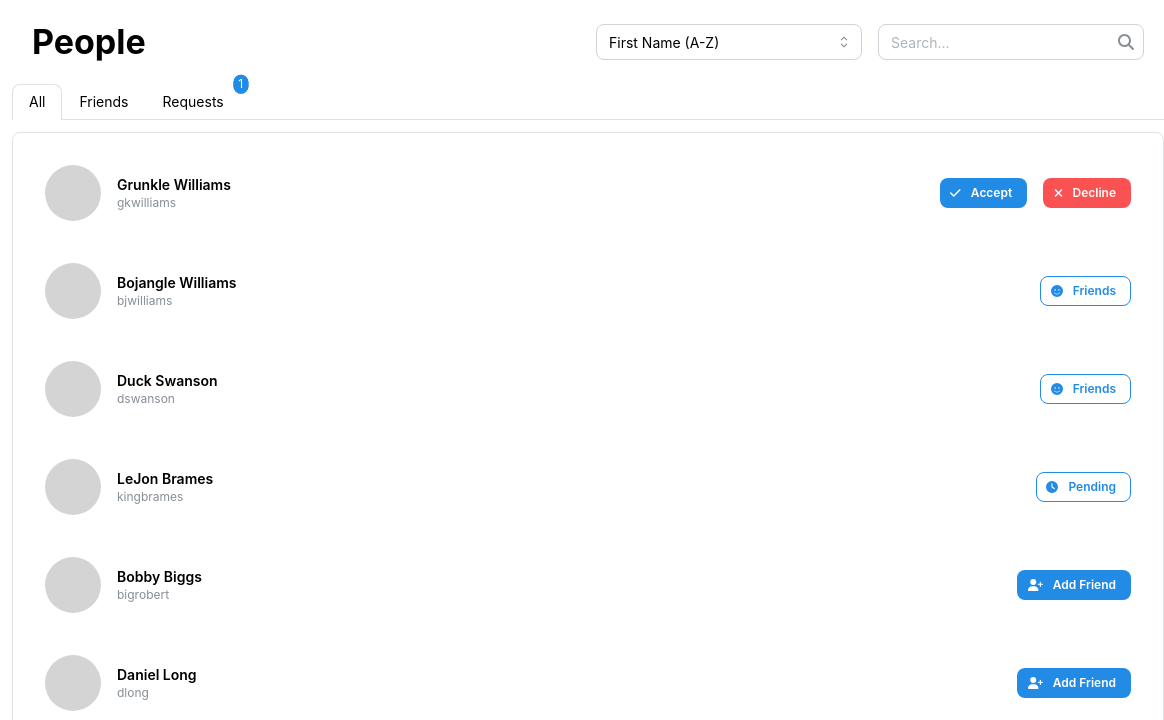
Test: People Page › Cancels an outgoing friend request correctly
Click the button with test id "outgoing-request-btn" at (1084, 487), box [1036,472,1131,502]
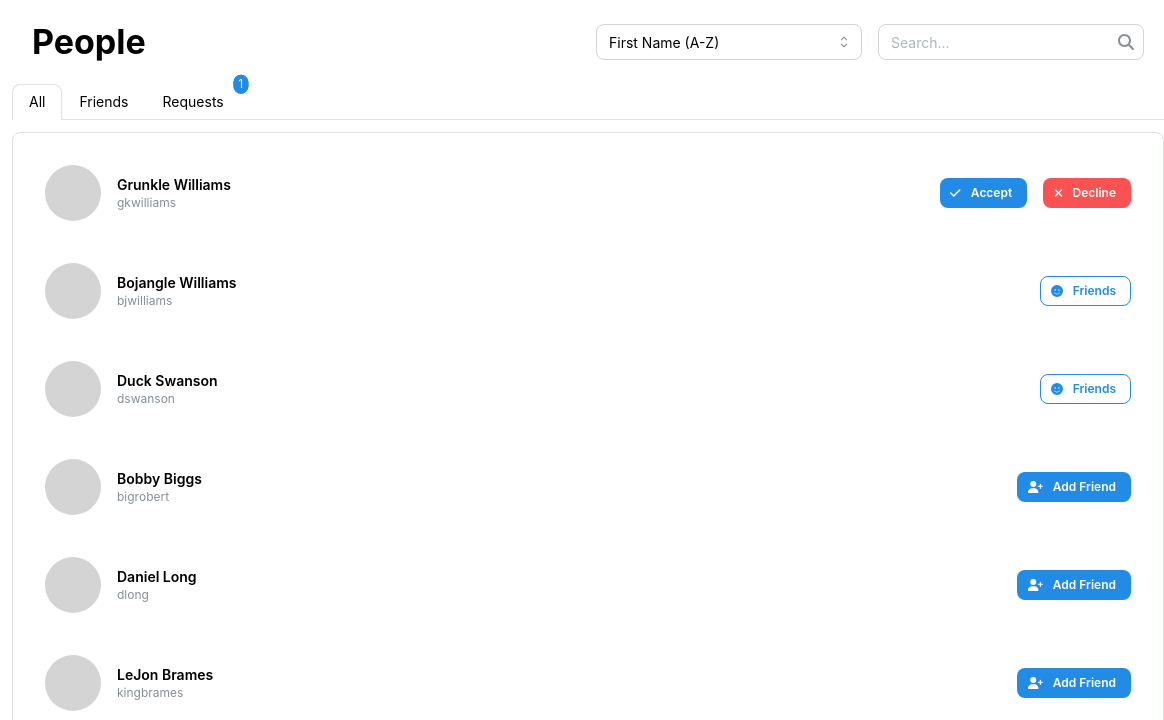
Expected: the button with test id "outgoing-request-btn" is gone
